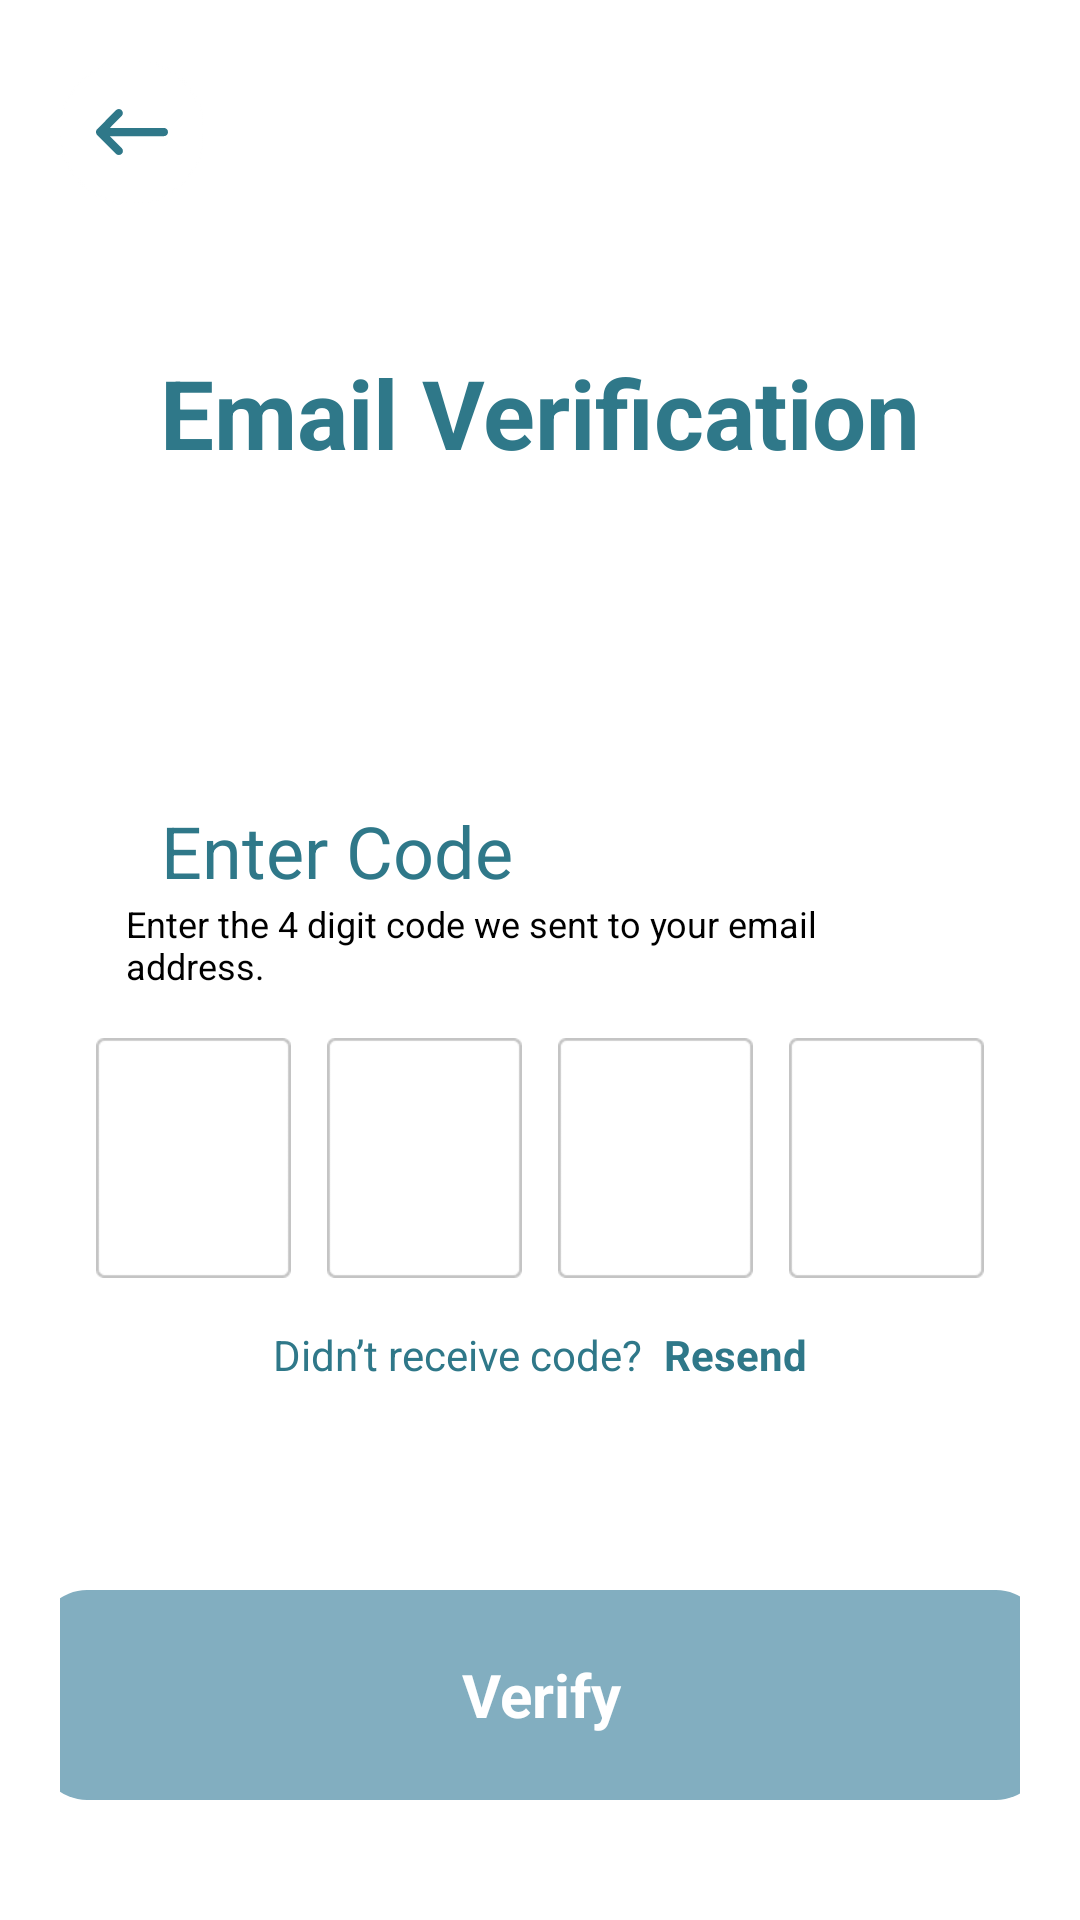

Screen size 1080 x 1920. Icon name, then its box in pixels as bbox(x1, y1, x2, y2):
back arrorw: bbox(96, 109, 168, 155)
